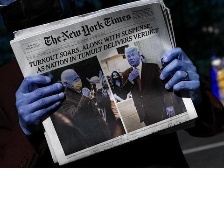news_paper: (7, 0, 197, 168)
